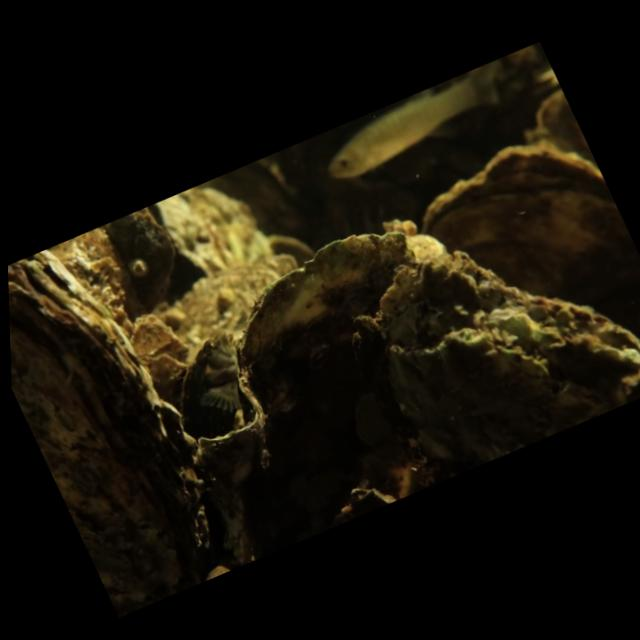Oyster-Closed: (8, 252, 206, 589), (222, 215, 436, 459), (417, 128, 640, 311), (386, 327, 602, 471)
Oyster-Indeterminate: (345, 258, 640, 507)
